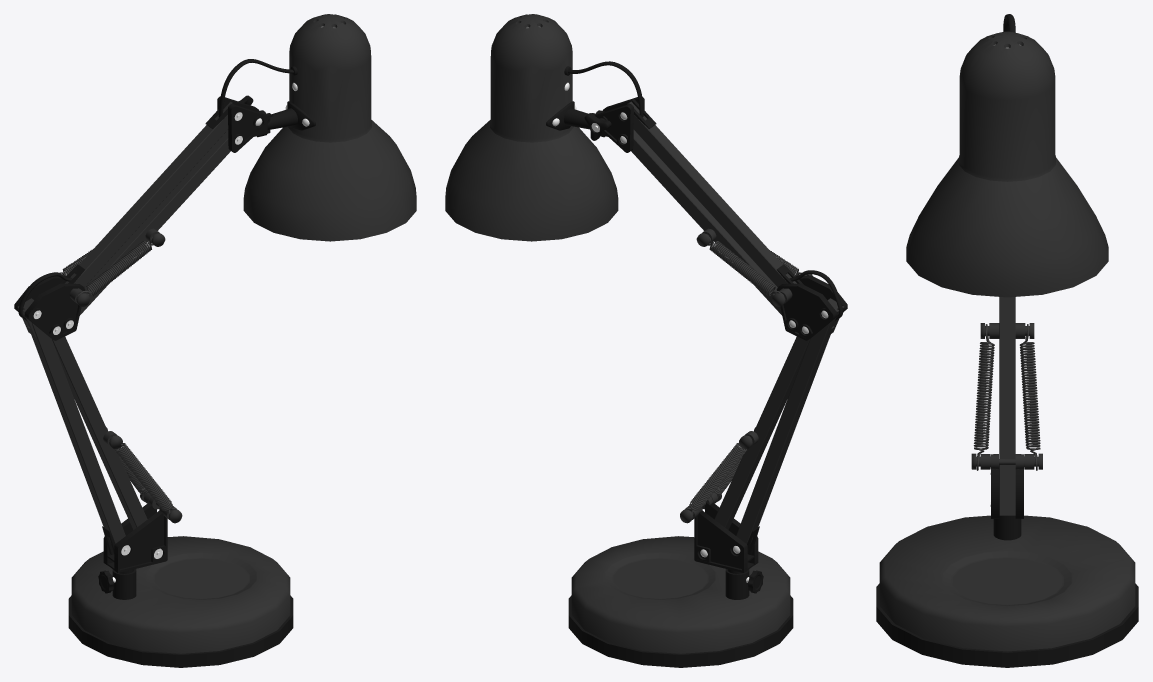
Rendered from desk_lamp.glb.
The picture shows the model from 3 angles, left to right: view 1: azimuth 30°, elevation 25°; view 2: azimuth 150°, elevation 25°; view 3: azimuth 270°, elevation 25°; orthographic projection. The views are drawn at different scales.
Parts seen in each view (by area): view 1: Cylinder005, Cylinder006, Box009_01 - Default_0, Object008_04 - Default_0, Cylinder001, Spring013, Line002, Cylinder003, Object003_01 - Default_0; view 2: Cylinder005, Cylinder006, Box009_01 - Default_0, Object008_04 - Default_0, Cylinder001, Spring013, Line002, Cylinder003, Object003_01 - Default_0; view 3: Cylinder005, Cylinder006, Cylinder001, Box009_01 - Default_0, Spring013, Object003_01 - Default_0, Object008_04 - Default_0, Cylinder003, Object006_01 - Default_0.
Part boxes in pixels (<box>): Cylinder005: <box>243,14,416,241</box>; Cylinder006: <box>71,536,290,653</box>; Box009_01 - Default_0: <box>23,101,232,543</box>; Object008_04 - Default_0: <box>14,96,270,572</box>; Cylinder001: <box>68,595,293,667</box>; Spring013: <box>59,236,176,514</box>; Line002: <box>18,59,293,320</box>; Cylinder003: <box>112,569,136,599</box>; Object003_01 - Default_0: <box>69,288,182,523</box>; Cylinder005: <box>445,14,618,241</box>; Cylinder006: <box>571,536,790,653</box>; Box009_01 - Default_0: <box>629,101,838,543</box>; Object008_04 - Default_0: <box>595,97,847,572</box>; Cylinder001: <box>568,595,793,667</box>; Spring013: <box>685,237,806,514</box>; Line002: <box>568,61,843,320</box>; Cylinder003: <box>725,569,749,599</box>; Object003_01 - Default_0: <box>680,274,812,523</box>; Cylinder005: <box>906,31,1108,297</box>; Cylinder006: <box>879,515,1135,651</box>; Cylinder001: <box>876,583,1138,667</box>; Box009_01 - Default_0: <box>999,297,1015,515</box>; Spring013: <box>973,324,1040,470</box>; Object003_01 - Default_0: <box>971,453,1042,469</box>; Object008_04 - Default_0: <box>991,465,1023,518</box>; Cylinder003: <box>993,515,1021,540</box>; Object006_01 - Default_0: <box>980,323,1034,338</box>.
Bounding box in the file's own units: 1.86 × 2.59 × 0.9329.
Materials: 3 (3 with a texture image).
